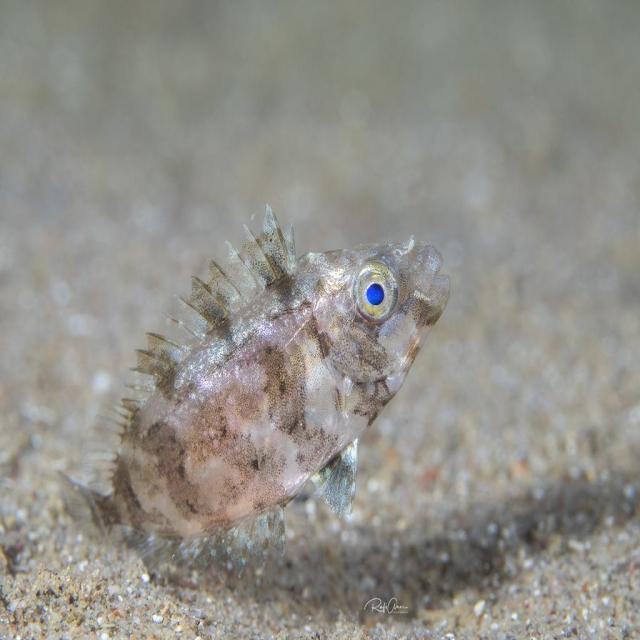Sokar Baligi: (55, 201, 474, 588)
